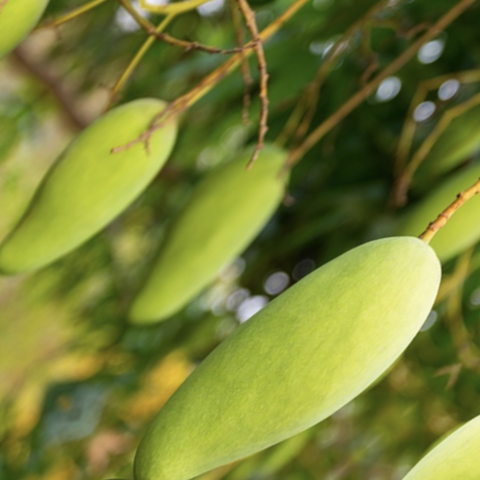mango: (89, 173, 480, 480), (71, 112, 331, 360), (0, 63, 210, 309)
